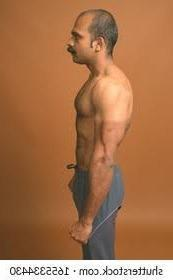Human: (51, 7, 128, 269)
